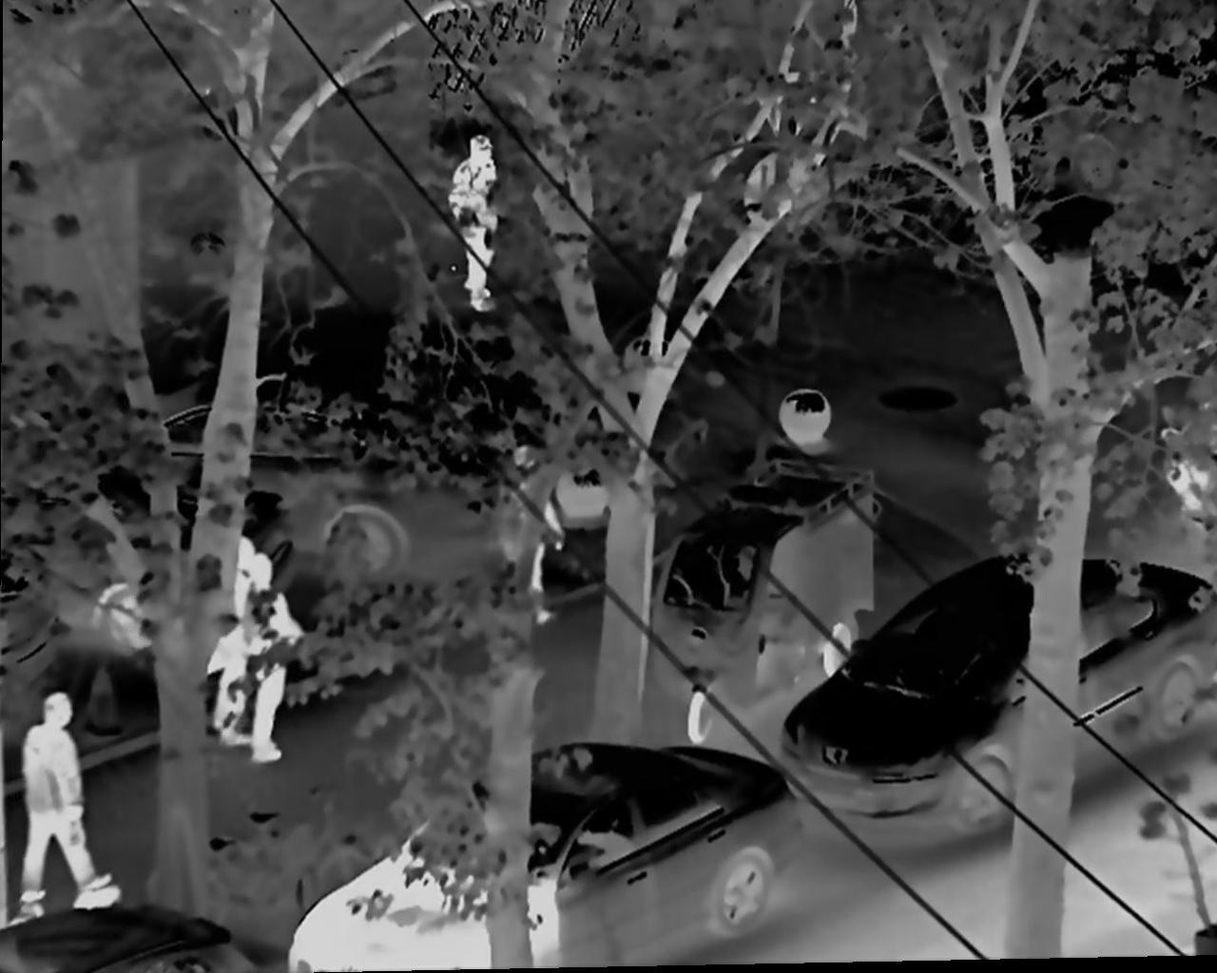person: (17, 687, 127, 906), (191, 525, 273, 747), (233, 570, 320, 774), (438, 121, 520, 314)
